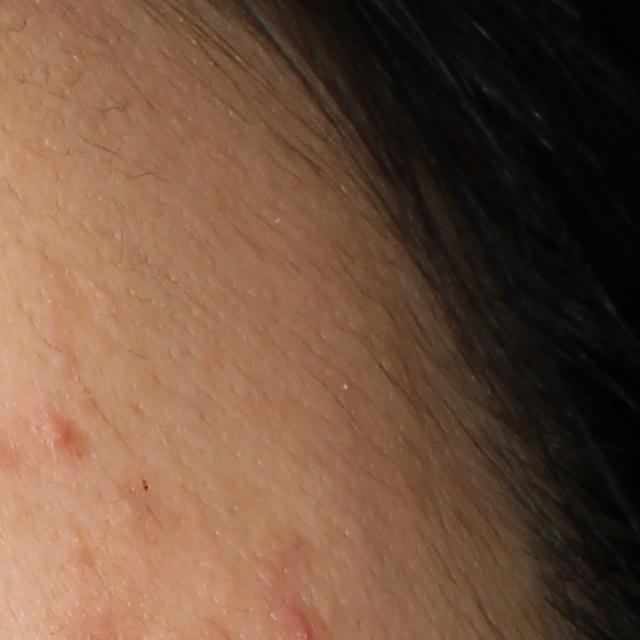papule: (40, 416, 79, 448)
